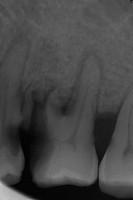Dental Caries: (58, 45, 103, 116)
Furcation Involvement: (7, 33, 31, 61)
